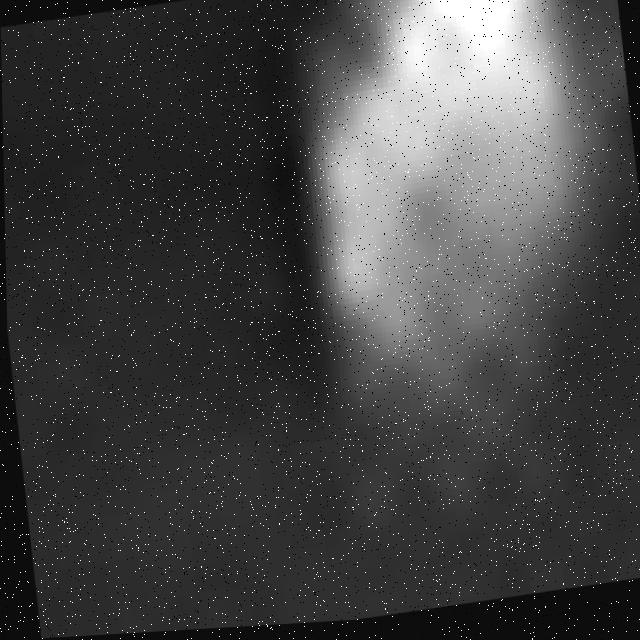person: (284, 1, 640, 495)
